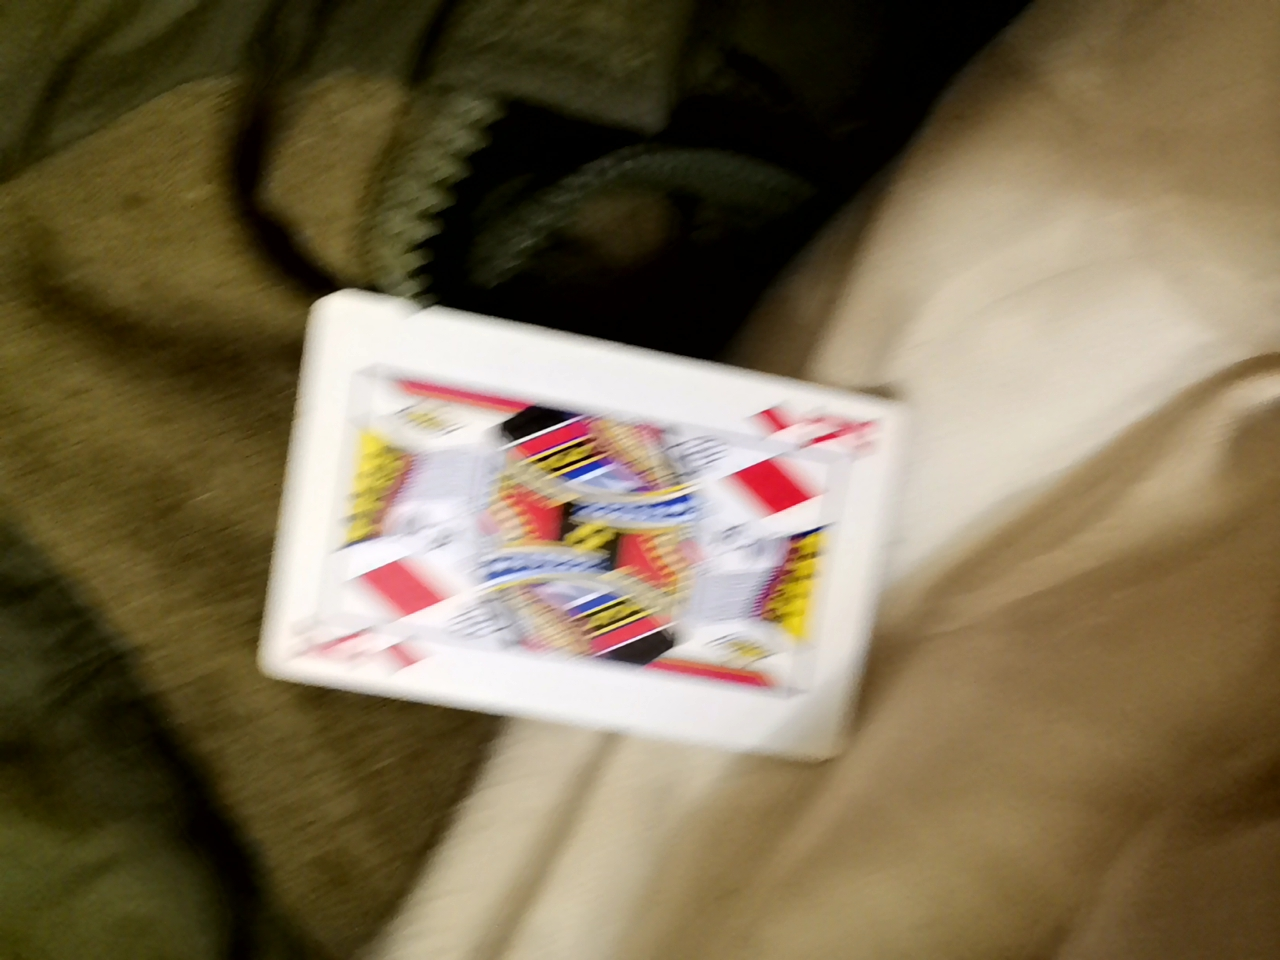fk k: (149, 357, 767, 787)
